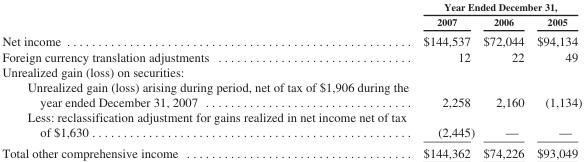table: (1, 0, 581, 159)
table column: (1, 0, 415, 159), (415, 0, 478, 159), (529, 0, 581, 159), (478, 0, 529, 159)
table column header: (1, 0, 581, 30)
table projected row header: (1, 63, 581, 79)
table row: (1, 109, 581, 142), (1, 79, 581, 109), (1, 30, 581, 48), (1, 142, 581, 159), (1, 14, 581, 30), (1, 63, 581, 79), (1, 48, 581, 63), (1, 0, 581, 14)
table spanning cell: (415, 0, 581, 14)
